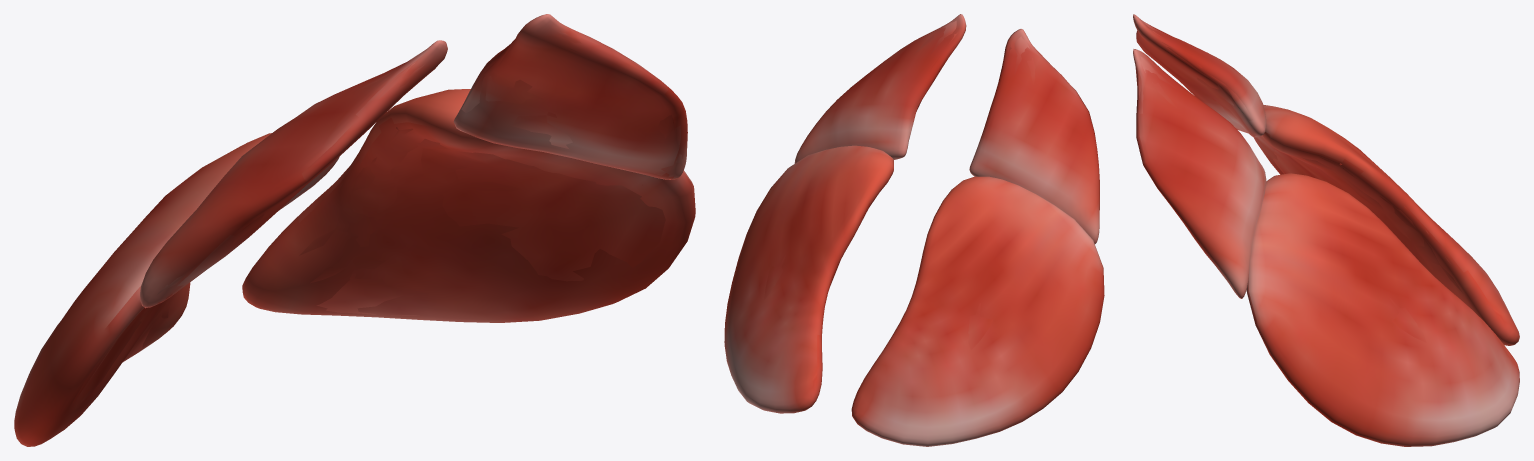
The model's file is Obliquus capitis caudalis.fbx.
3 renders of one model, left to right at view 1: azimuth 30°, elevation 25°; view 2: azimuth 150°, elevation 25°; view 3: azimuth 270°, elevation 25°, orthographic. The views are drawn at different scales.
Visible parts, largest first — view 1: Obliquus capitis caudalis, Obliquus capitis caudalis low; view 2: Obliquus capitis caudalis, Obliquus capitis caudalis low; view 3: Obliquus capitis caudalis, Obliquus capitis caudalis low.
Part boxes in pixels (x1,y1,x2,y2): Obliquus capitis caudalis: [14, 14, 695, 446]; Obliquus capitis caudalis low: [72, 26, 682, 403]; Obliquus capitis caudalis: [724, 14, 1104, 446]; Obliquus capitis caudalis low: [764, 20, 1049, 349]; Obliquus capitis caudalis: [1133, 14, 1519, 446]; Obliquus capitis caudalis low: [1135, 20, 1463, 342].
Size of the model in its own units: 15.93 by 12.67 by 12.86.
Materials: 1 (1 with a texture image).
